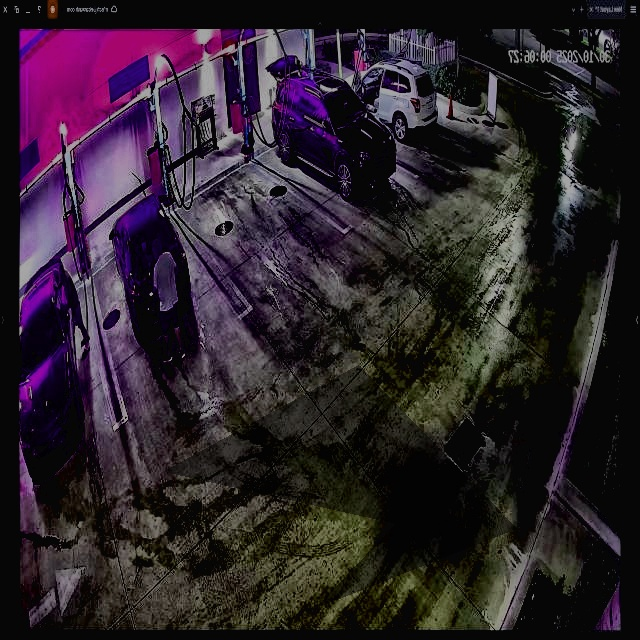Car: (271, 65, 397, 195), (109, 190, 190, 342)
